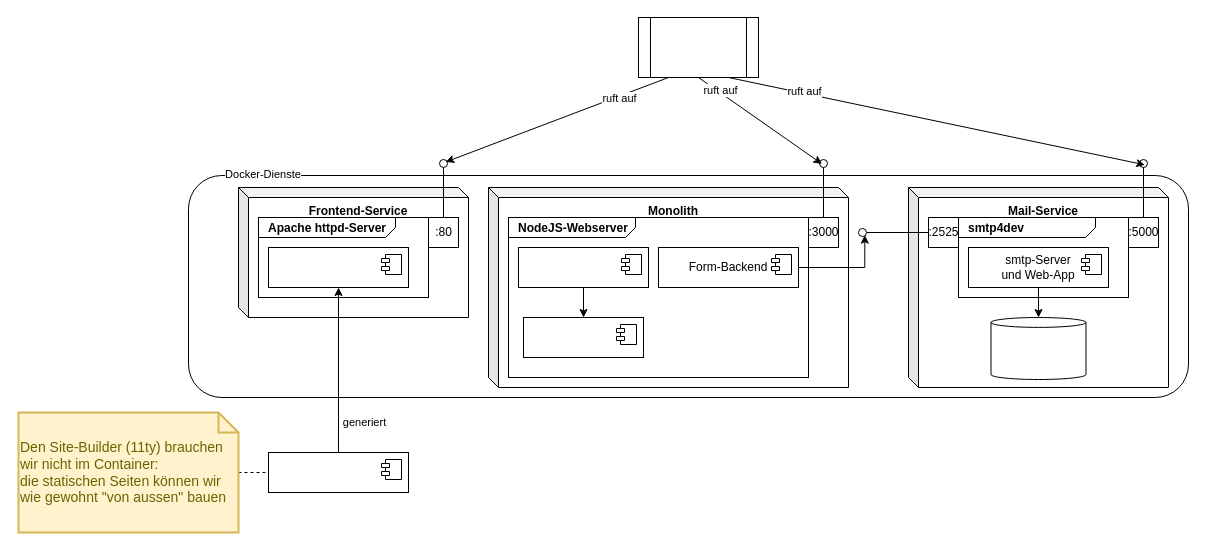
Image size: 1206x551. Some labels were removed from this diagram. The centre of each missing label's shape, as x and y in pixels:
Client Browser: point (698, 47)
Datenbank sqlite in-memory: point (583, 337)
Demo-/Text- API: point (583, 267)
Docker- Volume für Maildaten: point (1038, 348)
Site-Builder 11ty: point (338, 472)
statische Seiten: point (338, 267)
